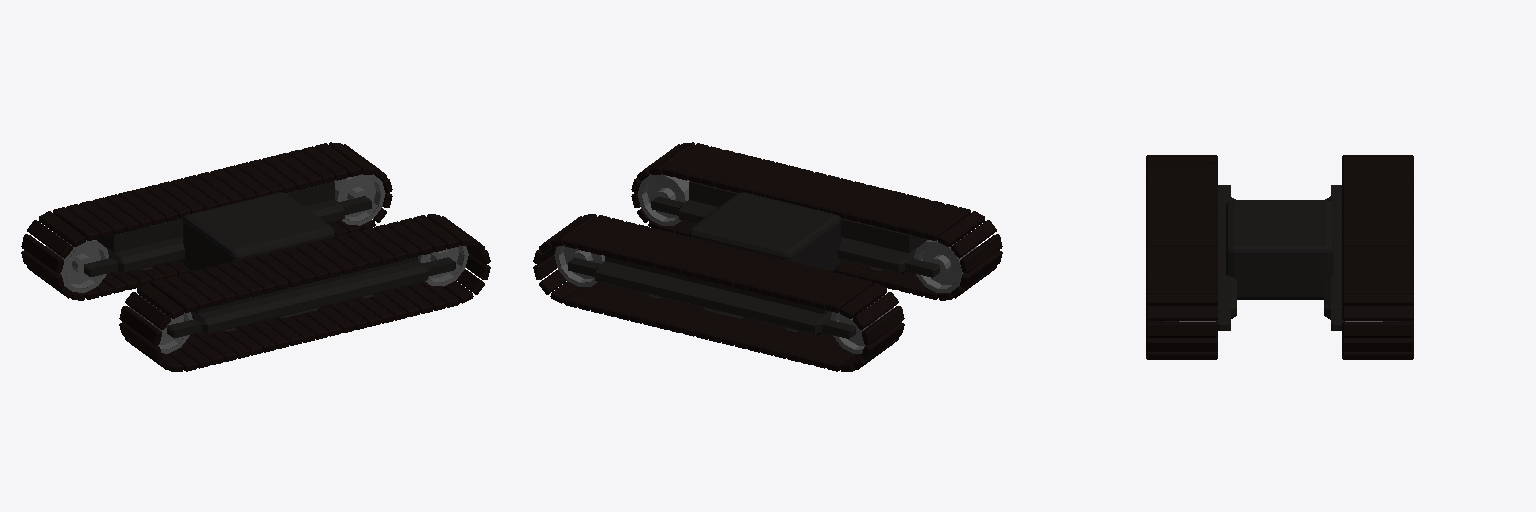
The picture shows the model from 3 angles: view 1: azimuth 30°, elevation 25°; view 2: azimuth 150°, elevation 25°; view 3: azimuth 270°, elevation 25°; orthographic projection.
Parts seen in each view (by area): view 1: gąsienica.001; view 2: gąsienica.001; view 3: gąsienica.001.
Part boxes in pixels (left/top/right/bottom): gąsienica.001: left=21, top=142, right=490, bottom=371; gąsienica.001: left=533, top=142, right=1002, bottom=371; gąsienica.001: left=1146, top=155, right=1413, bottom=359.
Bounding box in the file's own units: 15.9 × 3.09 × 10.92.
1 materials, 1 textured.